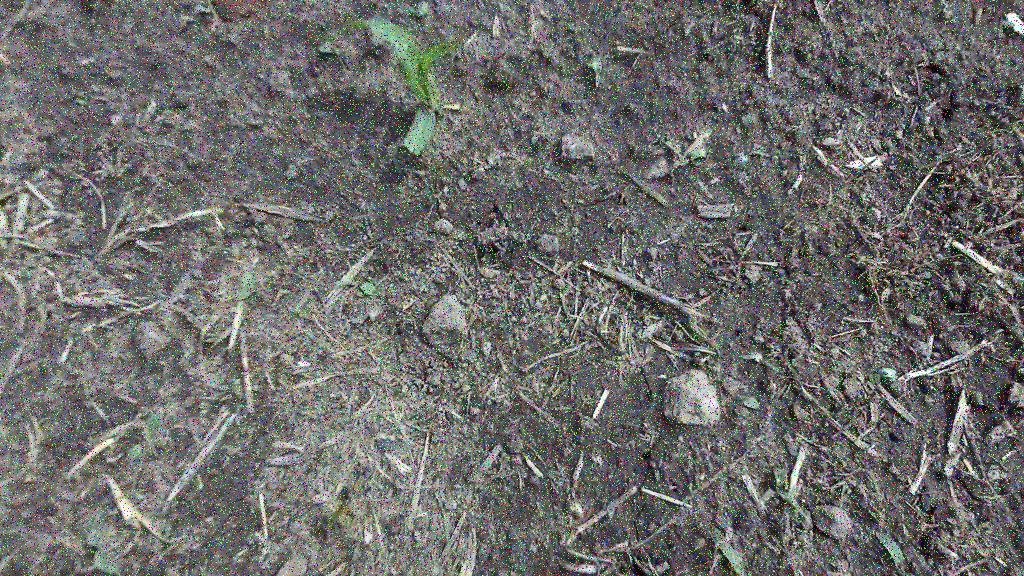BroWeed: (695, 521, 756, 576), (76, 509, 124, 576), (767, 464, 808, 525), (873, 524, 918, 576), (726, 143, 766, 176), (580, 49, 612, 89), (233, 269, 263, 307), (321, 497, 355, 529), (741, 346, 781, 373), (121, 435, 149, 465), (384, 153, 414, 180), (673, 145, 708, 167), (739, 108, 764, 137), (316, 37, 342, 63), (334, 479, 365, 500), (867, 365, 898, 386), (721, 144, 748, 167), (332, 268, 358, 291), (356, 277, 382, 299), (147, 407, 163, 440), (401, 1, 430, 18), (730, 402, 754, 421), (660, 137, 684, 156), (734, 394, 761, 410), (857, 189, 872, 207), (713, 337, 724, 361), (912, 269, 932, 281), (531, 129, 542, 146), (1017, 84, 1024, 106), (281, 230, 296, 240), (74, 97, 90, 106)
